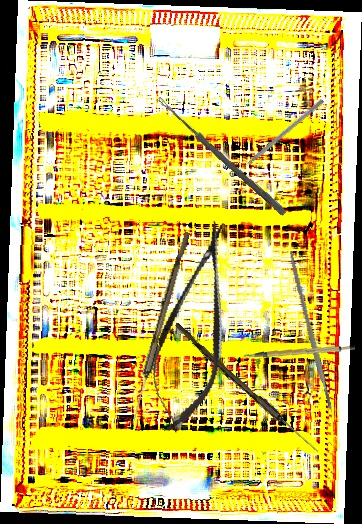Micro Scissor: (137, 214, 251, 438)
Pusher: (232, 97, 325, 177)
Scalpel Handle: (286, 250, 334, 411), (243, 336, 356, 365)
Surgical Spoon: (171, 322, 322, 455), (155, 95, 288, 217), (128, 230, 191, 426)
